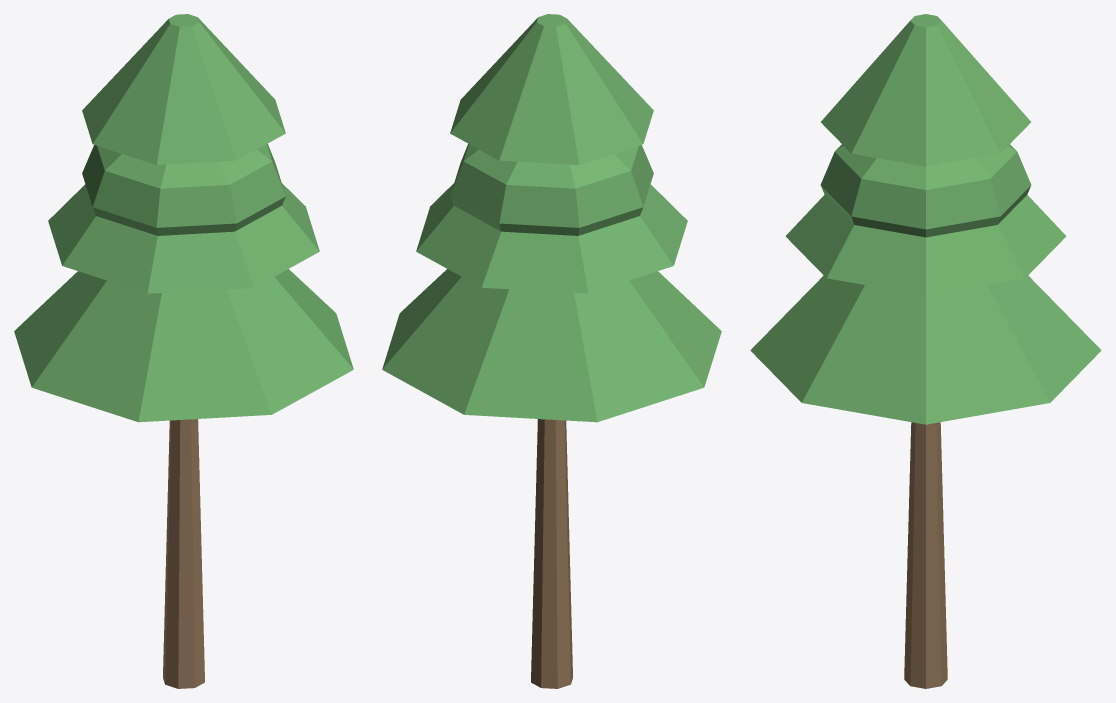
Rendered from deciduous_4.glb.
3 views of the same model, side by side, from view 1: azimuth 30°, elevation 25°; view 2: azimuth 150°, elevation 25°; view 3: azimuth 270°, elevation 25° (orthographic).
Visible parts, largest first — view 1: deciduous_4_foliage_0, deciduous_4_foliage_2, deciduous_4_foliage_1, deciduous_4_top, deciduous_4_trunk; view 2: deciduous_4_foliage_0, deciduous_4_foliage_2, deciduous_4_foliage_1, deciduous_4_top, deciduous_4_trunk; view 3: deciduous_4_foliage_0, deciduous_4_foliage_2, deciduous_4_foliage_1, deciduous_4_top, deciduous_4_trunk.
Part boxes in pixels (<box>): deciduous_4_foliage_0: <box>14,269,353,422</box>; deciduous_4_foliage_2: <box>82,14,285,164</box>; deciduous_4_foliage_1: <box>48,183,319,293</box>; deciduous_4_top: <box>82,143,285,235</box>; deciduous_4_trunk: <box>163,419,204,688</box>; deciduous_4_foliage_0: <box>382,269,721,422</box>; deciduous_4_foliage_2: <box>450,14,653,164</box>; deciduous_4_foliage_1: <box>416,183,687,293</box>; deciduous_4_top: <box>450,143,653,235</box>; deciduous_4_trunk: <box>531,419,572,688</box>; deciduous_4_foliage_0: <box>750,275,1101,424</box>; deciduous_4_foliage_2: <box>821,14,1030,166</box>; deciduous_4_foliage_1: <box>785,195,1066,295</box>; deciduous_4_top: <box>820,144,1031,237</box>; deciduous_4_trunk: <box>904,422,947,688</box>.
Size of the model in its own units: 2.51 by 5.2 by 2.51.
